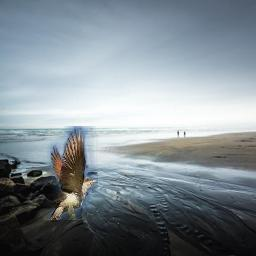Cuckoo: (20, 126, 99, 220)
